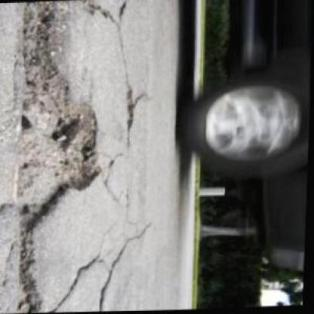Hueco: (8, 49, 111, 236)
